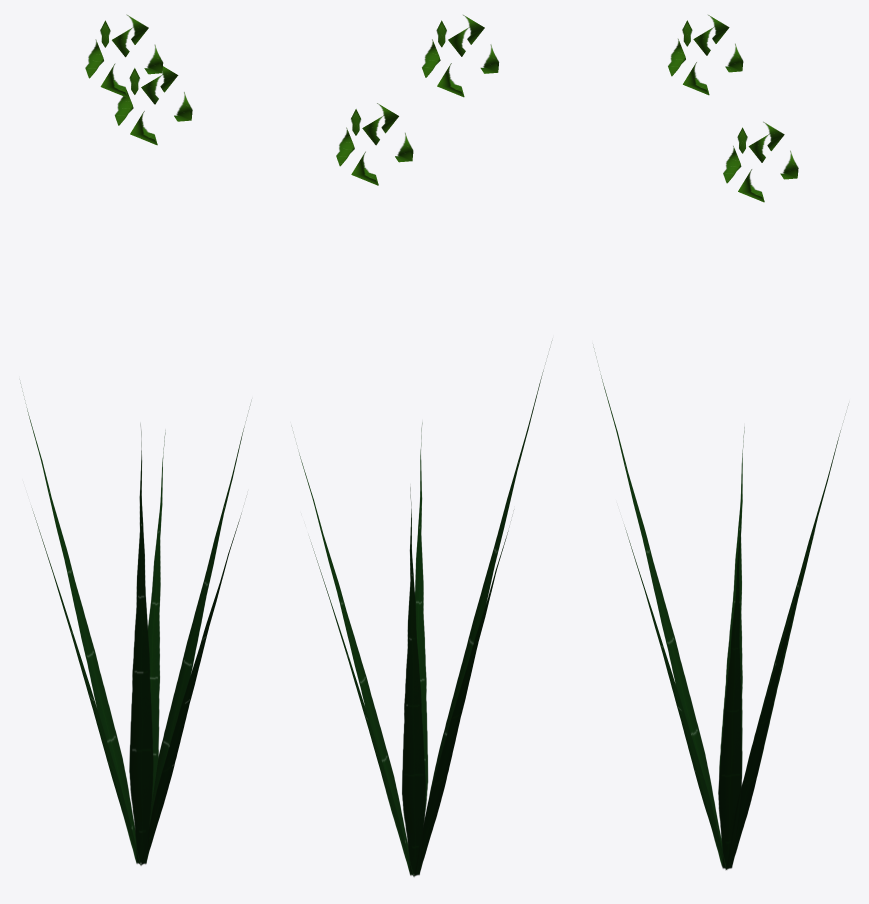
File: Wetland_YellowIris.glb
3 renders of one model, left to right at view 1: azimuth 30°, elevation 25°; view 2: azimuth 150°, elevation 25°; view 3: azimuth 270°, elevation 25°, orthographic. The views are drawn at different scales.
Visible parts, largest first — view 1: Wetland_YellowIris; view 2: Wetland_YellowIris; view 3: Wetland_YellowIris.
Boxes of the visible parts, box(x1,y1,x2,y2) form: Wetland_YellowIris: box(20, 14, 250, 865); Wetland_YellowIris: box(298, 15, 543, 876); Wetland_YellowIris: box(593, 15, 841, 869).
Bounding box in the file's own units: 0.3568 × 1.26 × 0.3651.
Materials: 1 (1 with a texture image).
